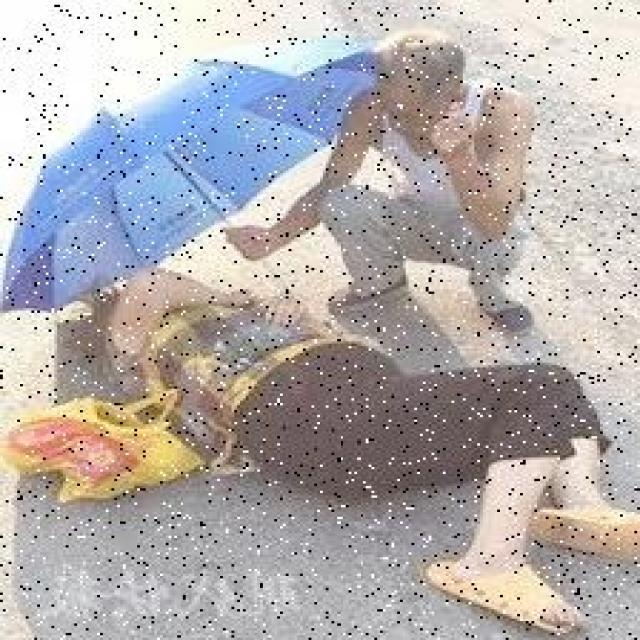fall: (97, 272, 632, 624)
